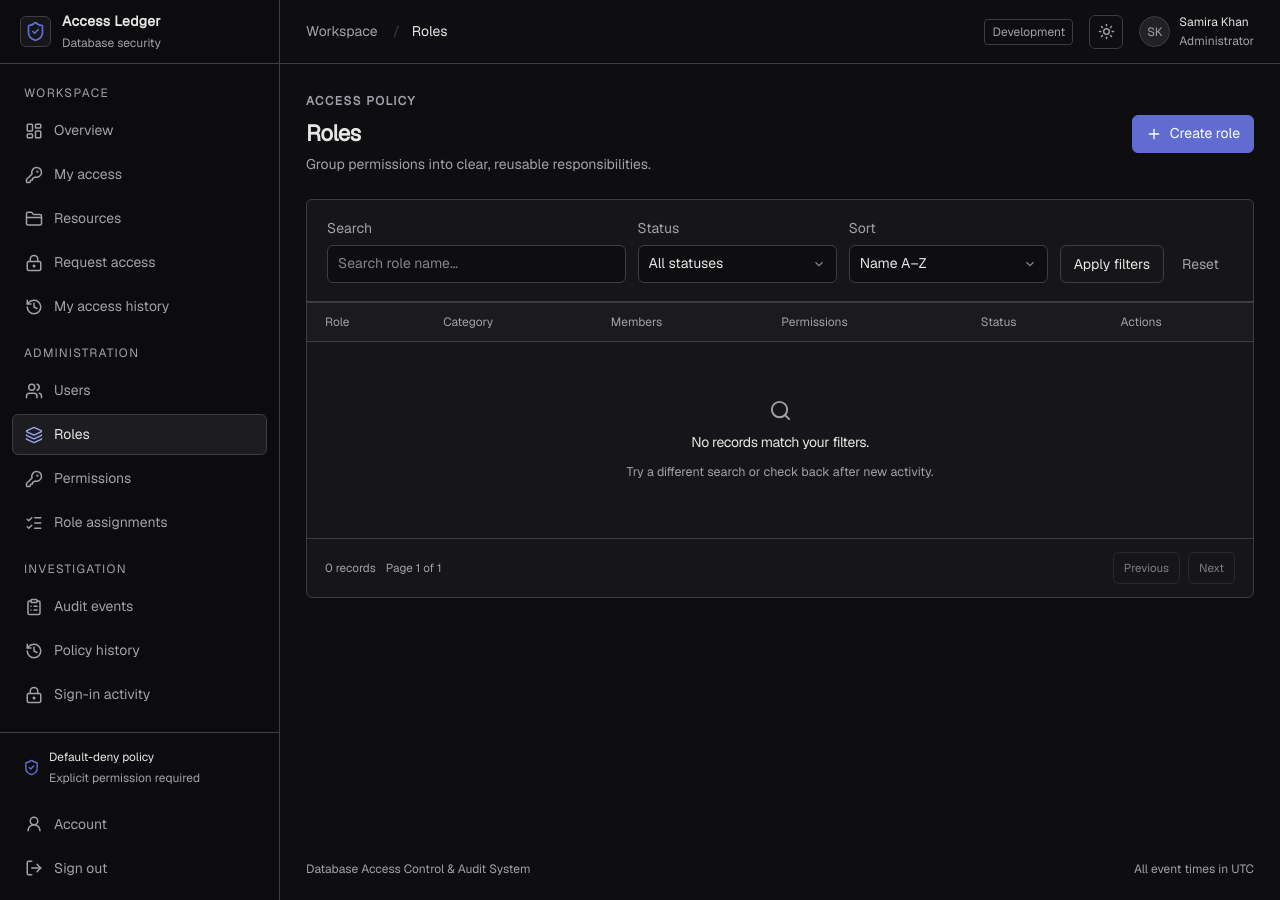
Test: workspace interactions › displays server validation errors beside the relevant field
The image size is (1280, 900).
Click the button "Create role".
click(1193, 134)  # box [1132, 115, 1254, 153]
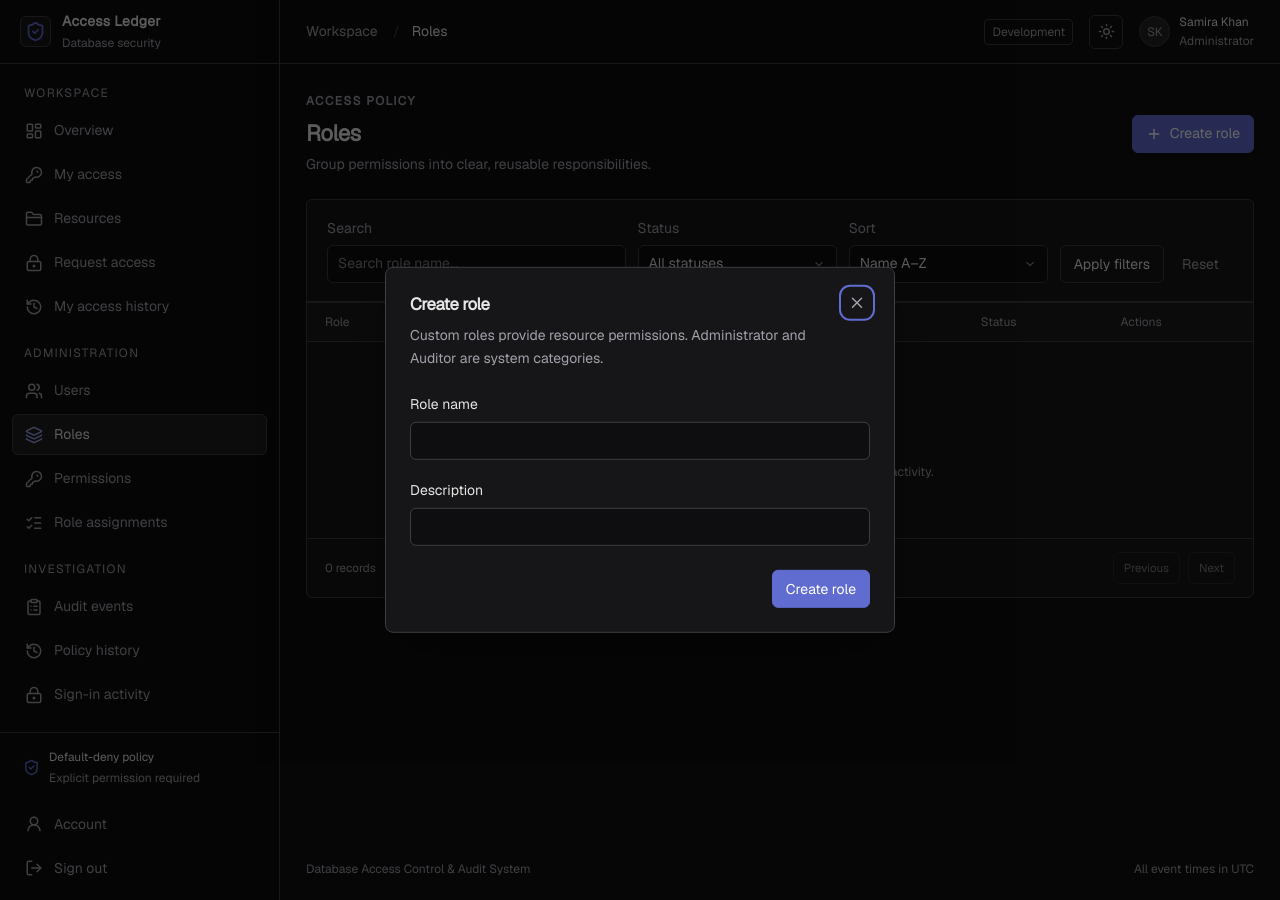
Type "Reserved" into the field labelled "Role name".
click(640, 441); type("Reserved")  # box [410, 422, 870, 460]
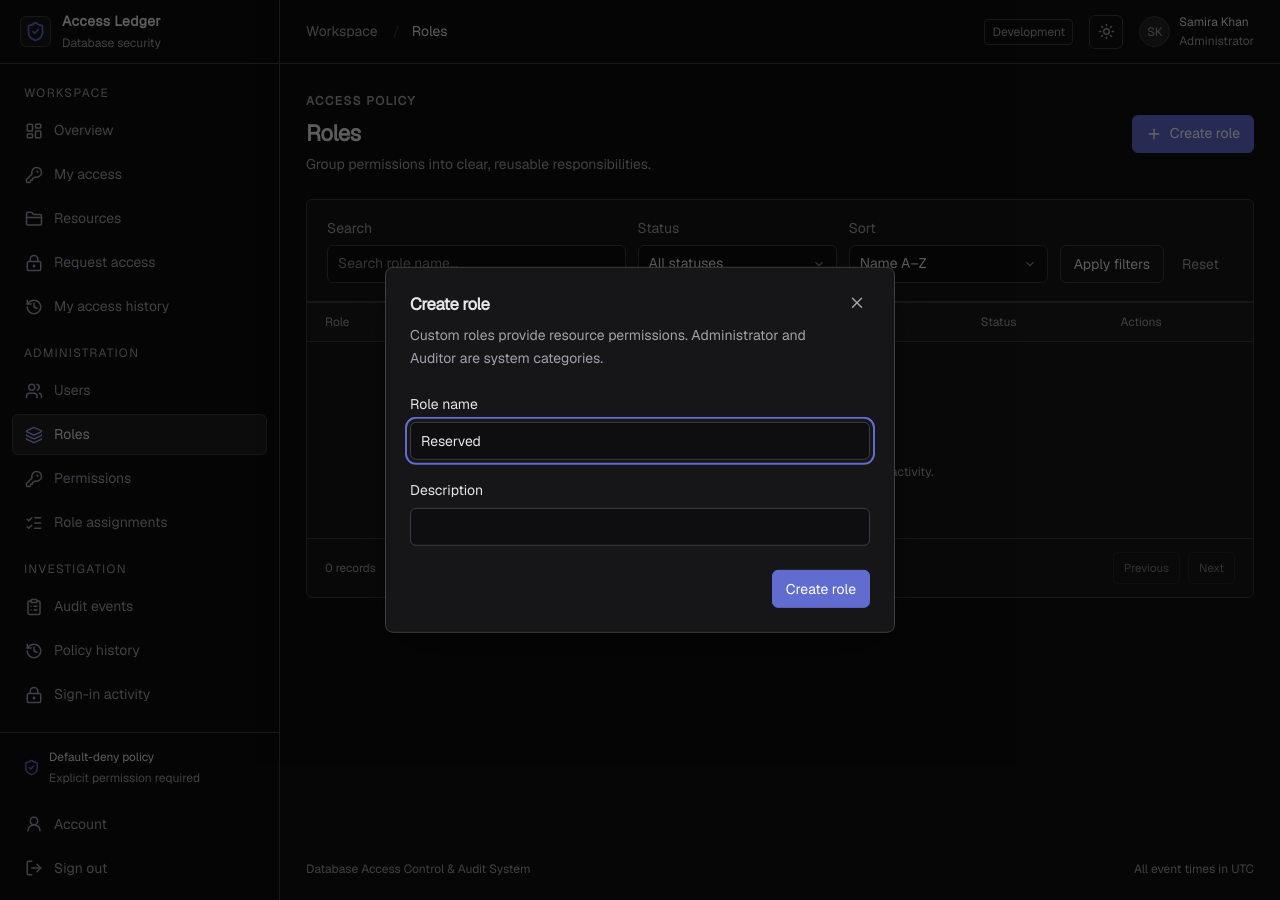
Click the button "Create role".
click(821, 589)  # box [772, 570, 870, 608]
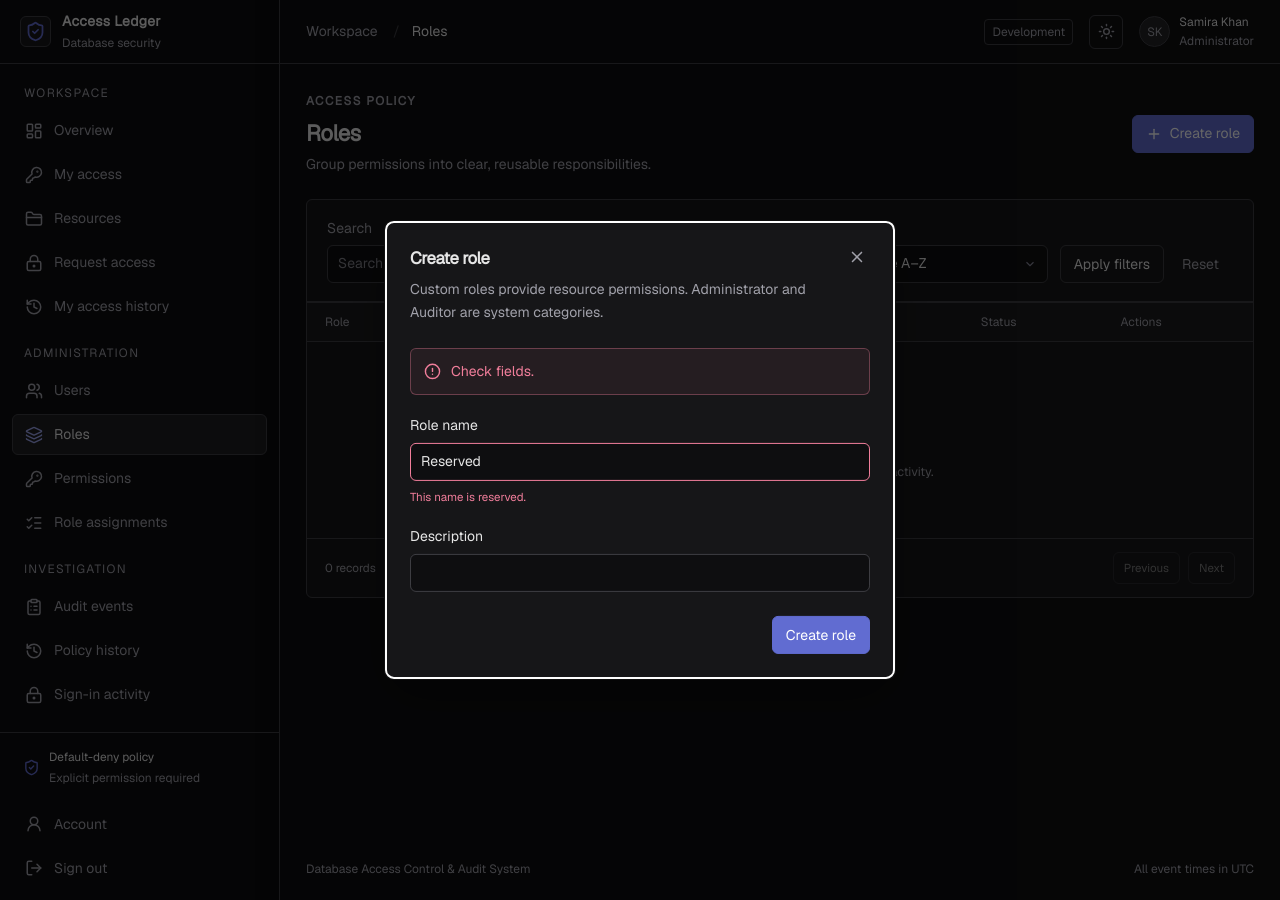
Check: the text "This name is reserved." is shown, box [410, 489, 526, 504]
